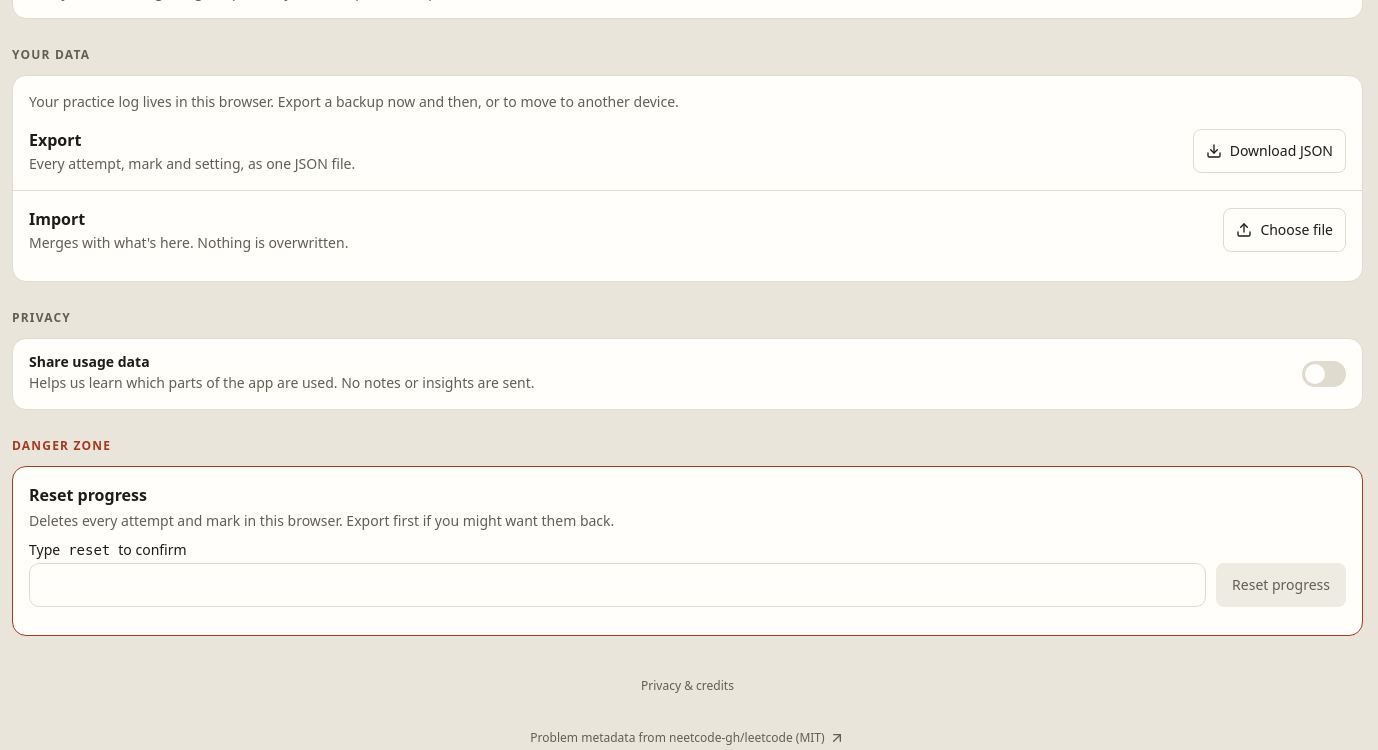
Test case: SettingsPage › empties the log on reset
The image size is (1378, 750).
(page scrolled)
Type "reset" into the field labelled "Type reset to confirm" at (618, 585), box [29,563,1206,607]
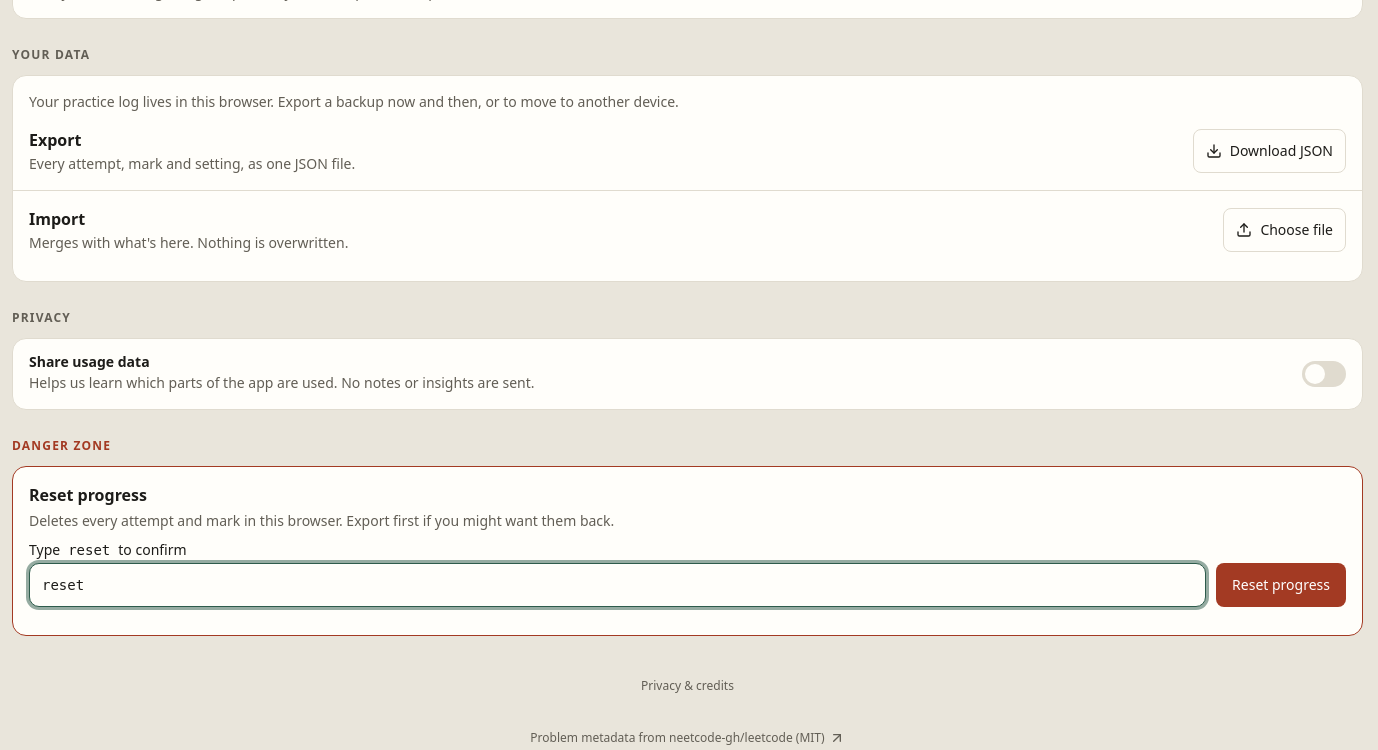
Click the button "Reset progress" at (1281, 585), box [1216,563,1346,607]
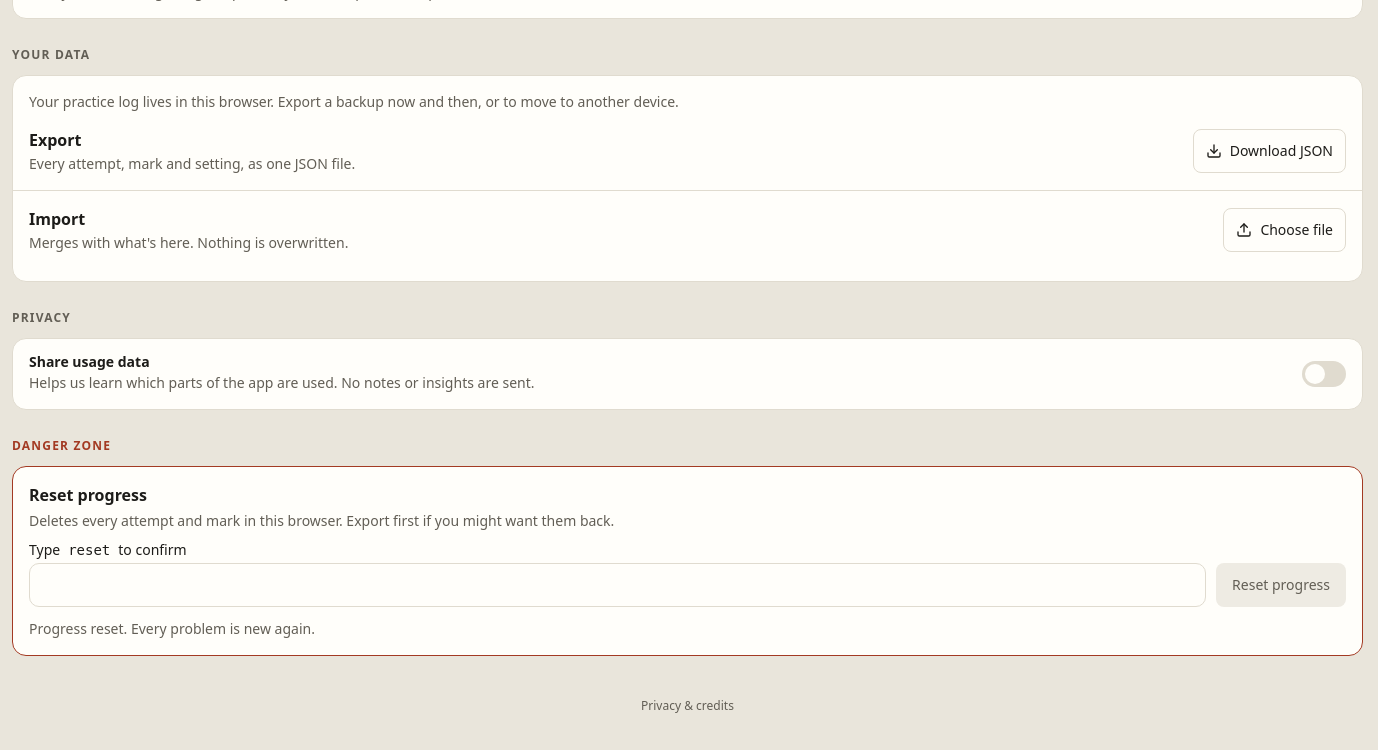
Expected: the text "Progress reset. Every problem is new again." is shown, [29,619,315,638]
